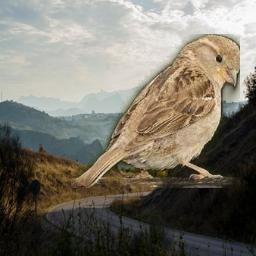Sparrow: (71, 34, 240, 188)
